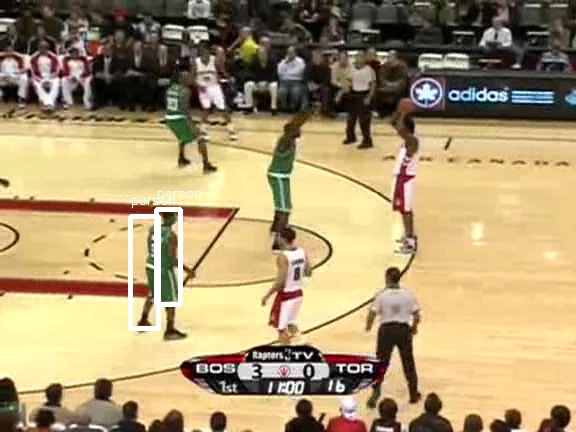person: (146, 227, 180, 308), (145, 227, 179, 308), (147, 227, 181, 308), (146, 226, 180, 307), (146, 228, 180, 309)
target_negative: (17, 8, 188, 256), (449, 299, 572, 351), (90, 292, 235, 320), (507, 188, 532, 340), (167, 108, 500, 113), (249, 370, 258, 426)
